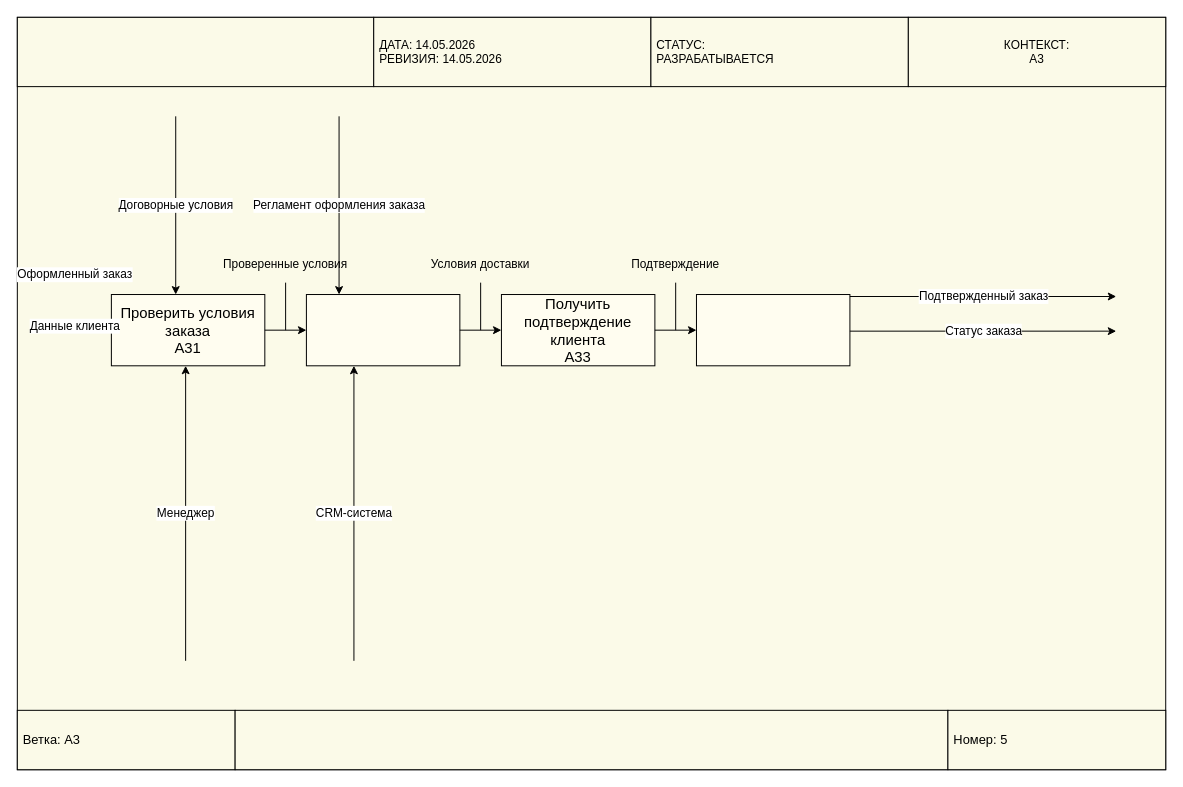
The diagram is 1183 pixels wide and 787 high, and some of its shapes have lost their labels. Each missing label, with the box of its shape:
АВТОР: Анастасия Лепилина ПРОЕКТ: ArtCulinaryCRM: (16, 16, 374, 87)
Изменить статус заказа A34: (695, 294, 850, 366)
Название: Согласовать и подтвердить продажу: (234, 709, 948, 770)
Согласовать дату и адрес доставки A32: (305, 294, 460, 366)
